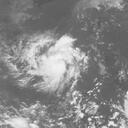cyclone: (35, 34, 82, 82)
